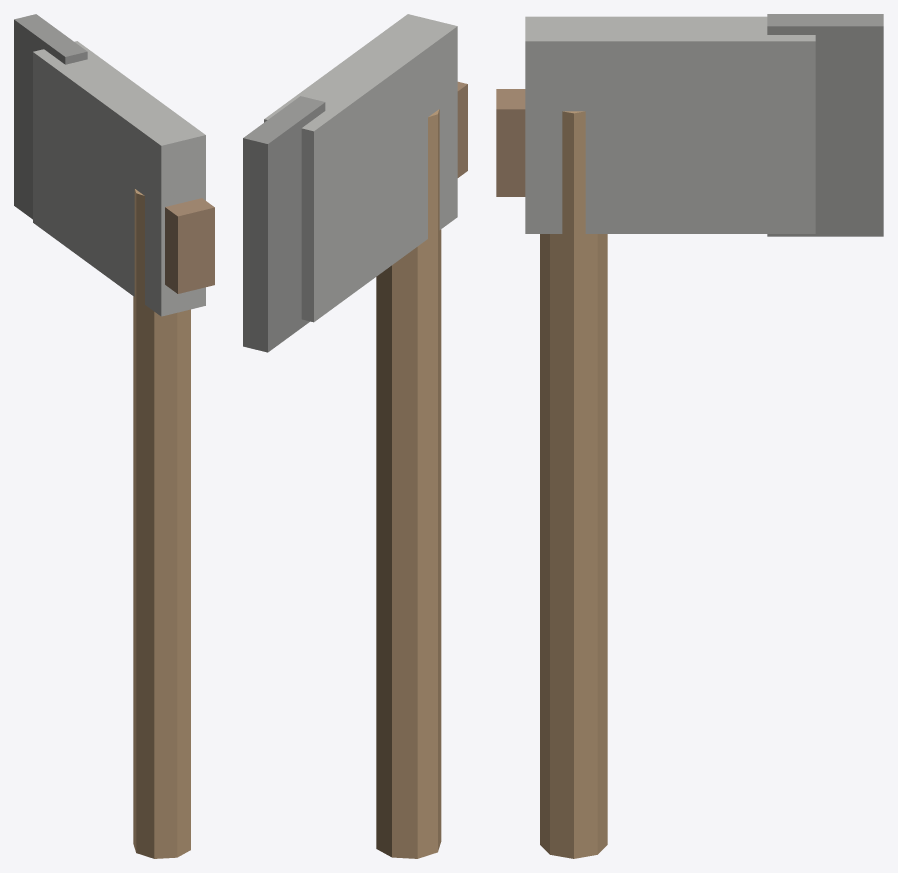
Rendered from stone_hatchet.glb.
3 renders of one model, left to right at view 1: azimuth 30°, elevation 25°; view 2: azimuth 150°, elevation 25°; view 3: azimuth 270°, elevation 25°, orthographic. The views are drawn at different scales.
Visible parts, largest first — view 1: stone_hatchet; view 2: stone_hatchet; view 3: stone_hatchet.
Boxes of the visible parts, x1,y1,x2,y2 form: stone_hatchet: [14, 14, 214, 858]; stone_hatchet: [243, 14, 467, 858]; stone_hatchet: [496, 14, 883, 858].
Size of the model in its own units: 0.07 by 0.94 by 0.4.
